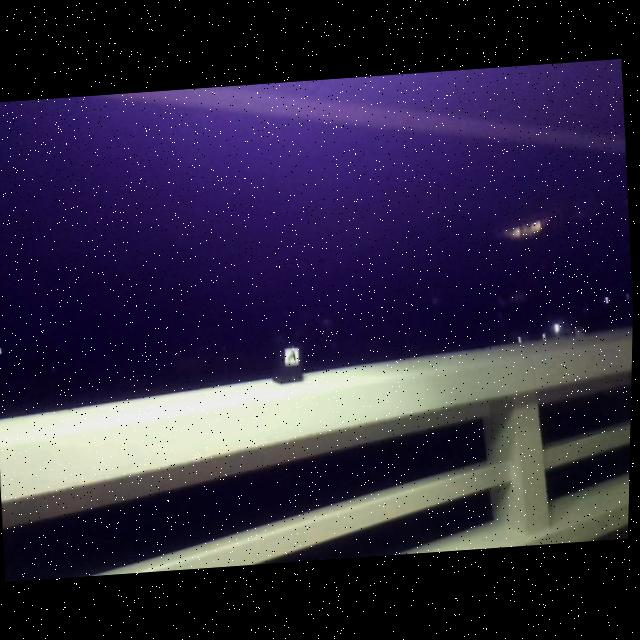A: (288, 349, 298, 361)
